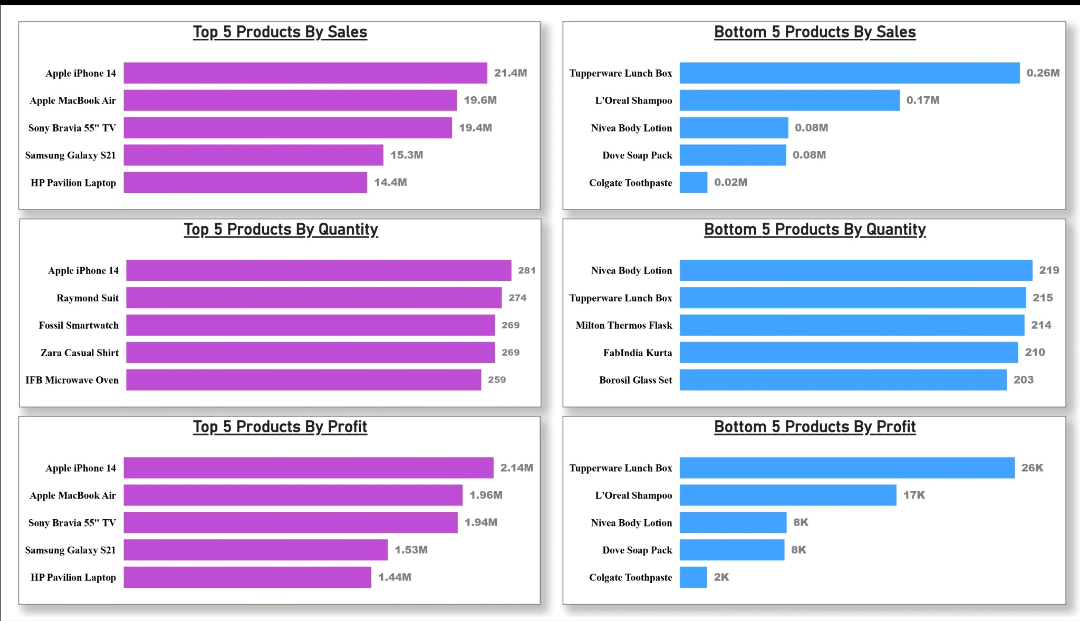

Layout of this report page (visuals, bound fields, positions):
{"tool":"powerbi","page":{"name":"Top/Bottom 5 Analysis","canvas":[1280,720],"ordinal":1},"visuals":[{"type":"barChart","title":"Top 5 Products By Sales","fields":{"Y":["Sum(Facts data.Net Sales)"],"Category":["Dim Product.Product Name"]},"box":[20.6,13.7,618.9,223.7],"z":0},{"type":"barChart","title":"Bottom 5 Products By Sales","fields":{"Y":["Sum(Facts data.Net Sales)"],"Category":["Dim Product.Product Name"]},"box":[665.5,13.7,596.9,223.7],"z":1000},{"type":"barChart","title":"Top 5 Products By Quantity","fields":{"Category":["Dim Product.Product Name"],"Y":["Sum(Facts data.Units Sold)"]},"box":[22,248.4,618.9,223.7],"z":2000},{"type":"barChart","title":"Bottom 5 Products By Quantity","fields":{"Category":["Dim Product.Product Name"],"Y":["Sum(Facts data.Units Sold)"]},"box":[665.5,248.4,596.9,223.7],"z":3000},{"type":"barChart","title":"Top 5 Products By Profit","fields":{"Category":["Dim Product.Product Name"],"Y":["Sum(Facts data.Profit)"]},"box":[20.6,481.6,618.9,223.7],"z":4000},{"type":"barChart","title":"Bottom 5 Products By Profit","fields":{"Category":["Dim Product.Product Name"],"Y":["Sum(Facts data.Profit)"]},"box":[665.5,481.6,596.9,223.7],"z":5000}]}

Visuals, with their boxes in screenshot pixels (x1, y1, x2, y2), scaled from the page's 1280x720 canvas onto the 1080x621 screenshot:
"Top 5 Products By Sales" barChart: (left=17, top=12, right=540, bottom=205)
"Bottom 5 Products By Sales" barChart: (left=562, top=12, right=1065, bottom=205)
"Top 5 Products By Quantity" barChart: (left=19, top=214, right=541, bottom=407)
"Bottom 5 Products By Quantity" barChart: (left=562, top=214, right=1065, bottom=407)
"Top 5 Products By Profit" barChart: (left=17, top=415, right=540, bottom=608)
"Bottom 5 Products By Profit" barChart: (left=562, top=415, right=1065, bottom=608)
